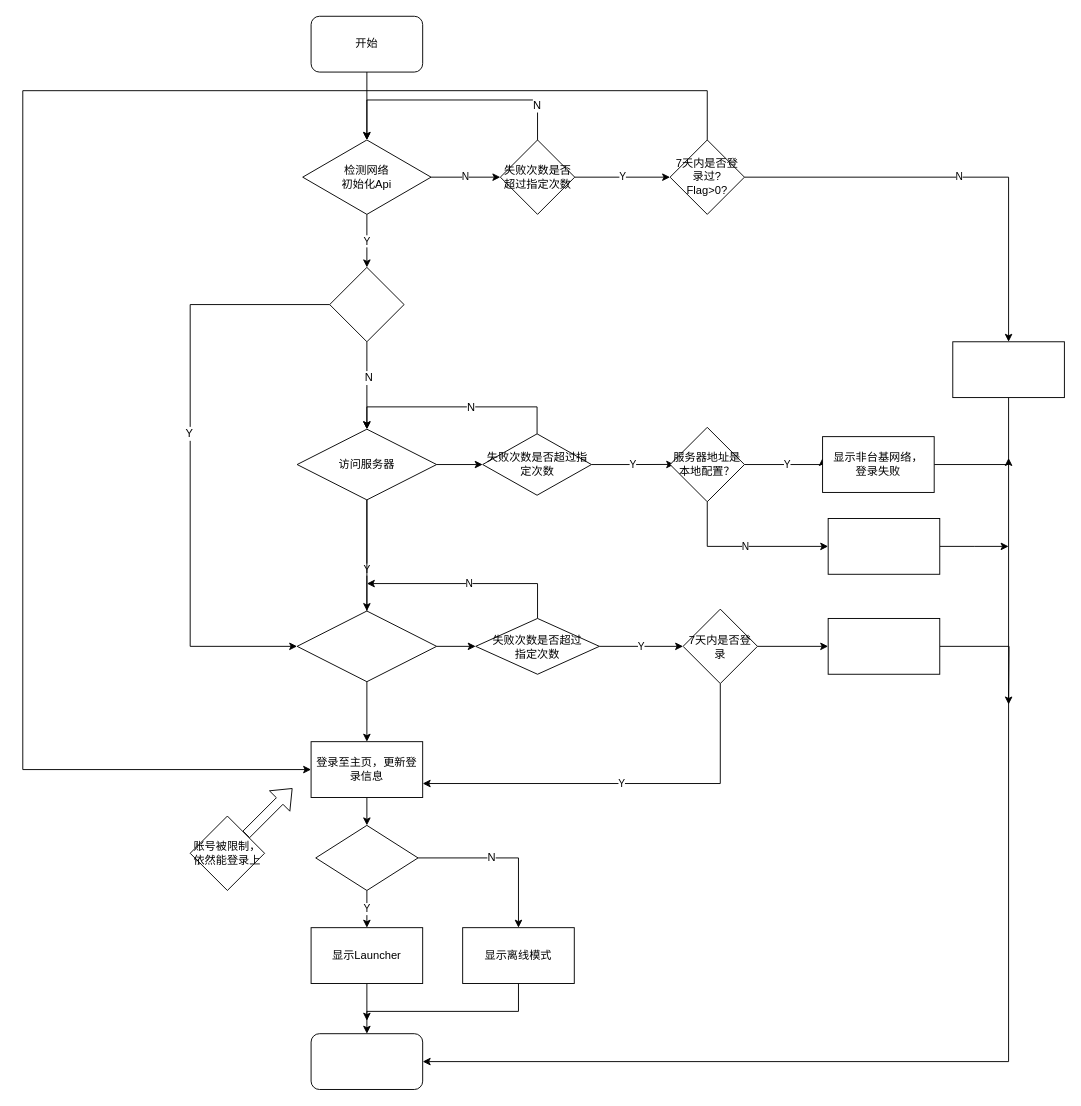
Image size: 1081x1106. Some labels were removed from this diagram. Each missing label, with the centre of its shape:
"7天内是否登录过?" goes at [366,304].
"无网络连接, 请检查网络" goes at [1008,369].
"服务器无响应， 请稍候60秒" goes at [883,546].
"服务器获取数据/ 加载缓存" goes at [366,857].
"登录 (更新用户信息/更新API)" goes at [366,646].
"登录失败" goes at [883,646].
"结束" goes at [366,1061].
